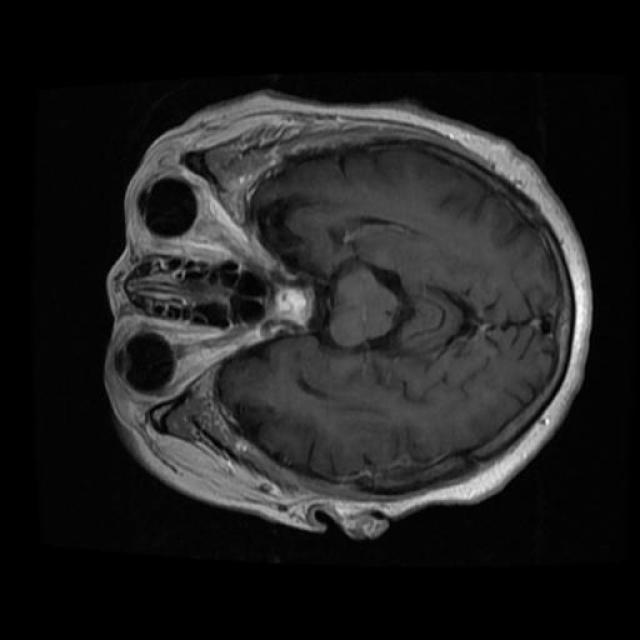Pituitary: (271, 287, 313, 326)
